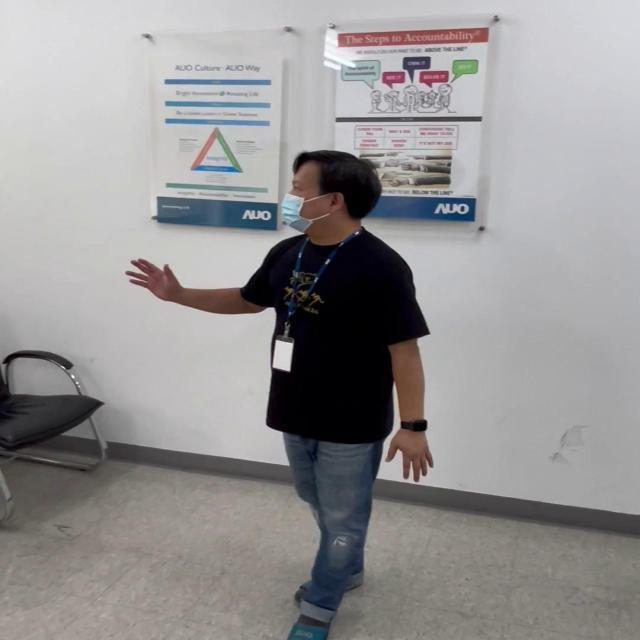bare_hand: (124, 252, 179, 305), (385, 424, 433, 482)
